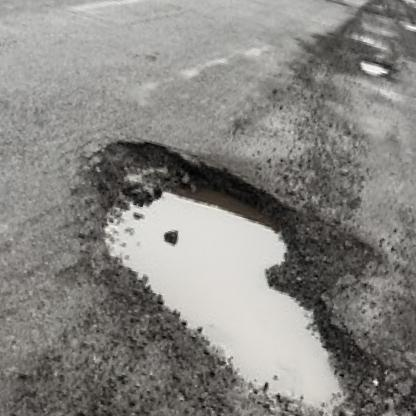pothole: (48, 130, 414, 416), (355, 54, 393, 81)
